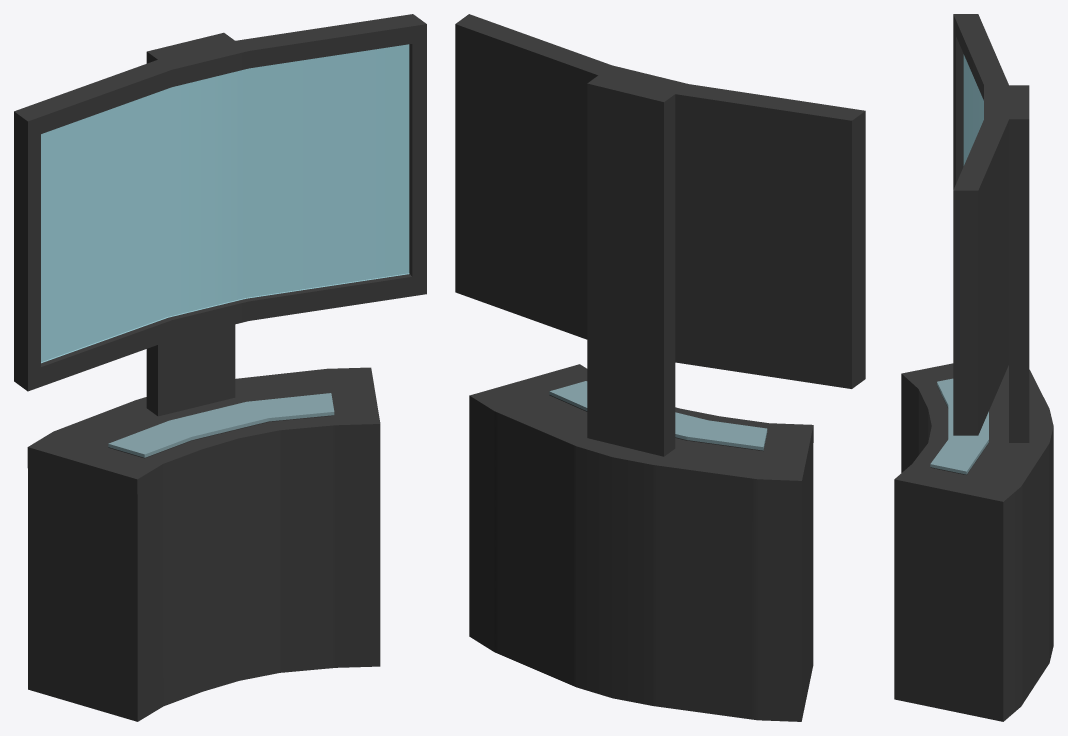
File: map.fbx
3 renders of one model, left to right at view 1: azimuth 30°, elevation 25°; view 2: azimuth 150°, elevation 25°; view 3: azimuth 270°, elevation 25°, orthographic. The views are drawn at different scales.
Parts seen in each view (by area): view 1: map; view 2: map; view 3: map.
Boxes of the visible parts, x1,y1,x2,y2 form: map: (14,14,426,721); map: (455,14,865,721); map: (894,14,1053,721).
Size of the model in its own units: 5.16 by 7.41 by 1.97.
